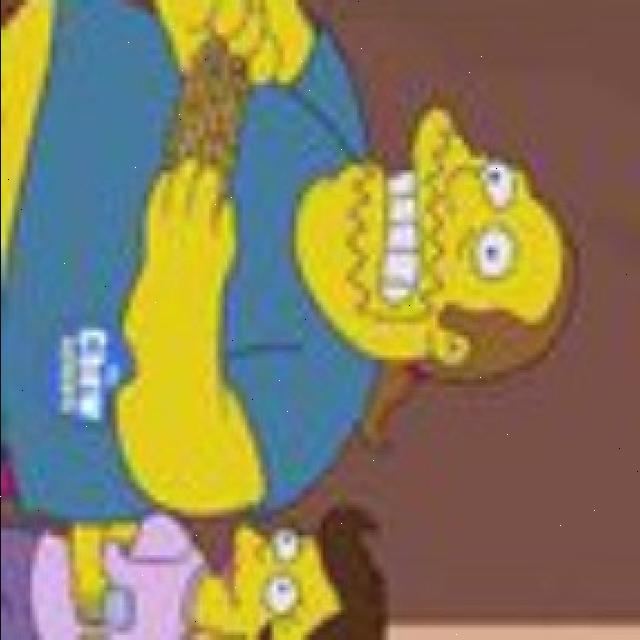Comic Book Guy: (292, 98, 576, 386)
